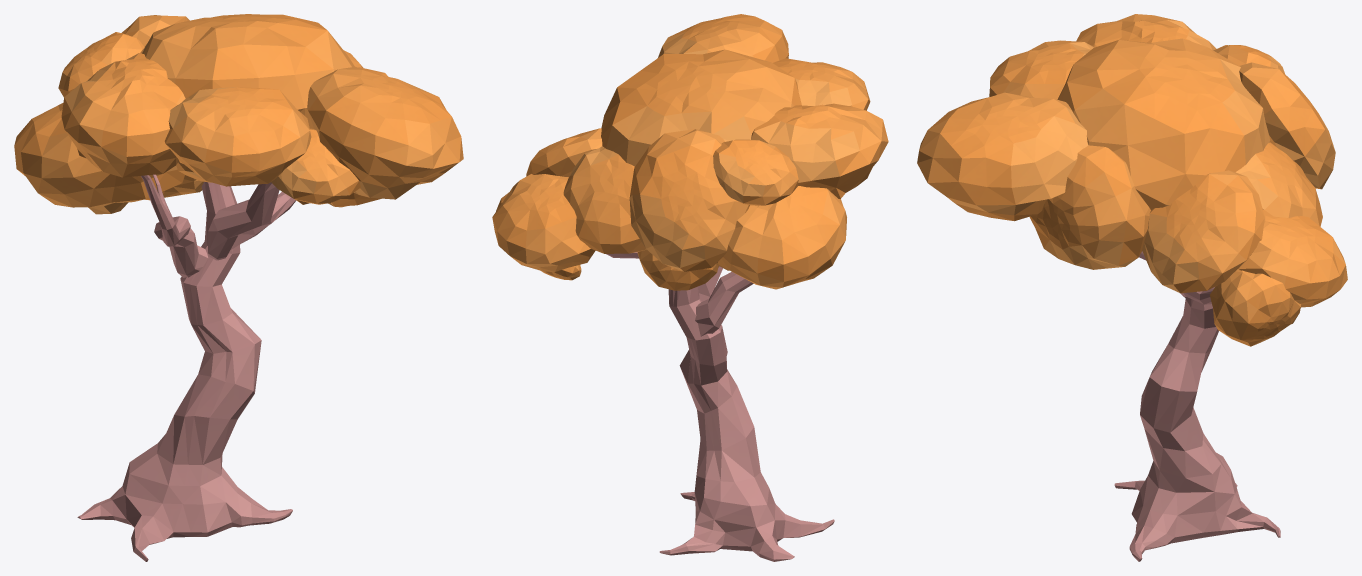
The model's file is tree_2_a.obj.
The picture shows the model from 3 angles, left to right: view 1: azimuth 30°, elevation 25°; view 2: azimuth 150°, elevation 25°; view 3: azimuth 270°, elevation 25°; orthographic projection. The views are drawn at different scales.
Parts seen in each view (by area): view 1: crown_2_a_Material, trunk_2_a_Material; view 2: crown_2_a_Material, trunk_2_a_Material; view 3: crown_2_a_Material, trunk_2_a_Material.
Boxes of the visible parts, x1,y1,x2,y2 form: crown_2_a_Material: (14,14,463,214); trunk_2_a_Material: (77,174,296,561); crown_2_a_Material: (492,14,888,290); trunk_2_a_Material: (606,252,834,561); crown_2_a_Material: (917,14,1347,346); trunk_2_a_Material: (1114,251,1280,561).
Size of the model in its own units: 4.06 by 5.28 by 4.24.
